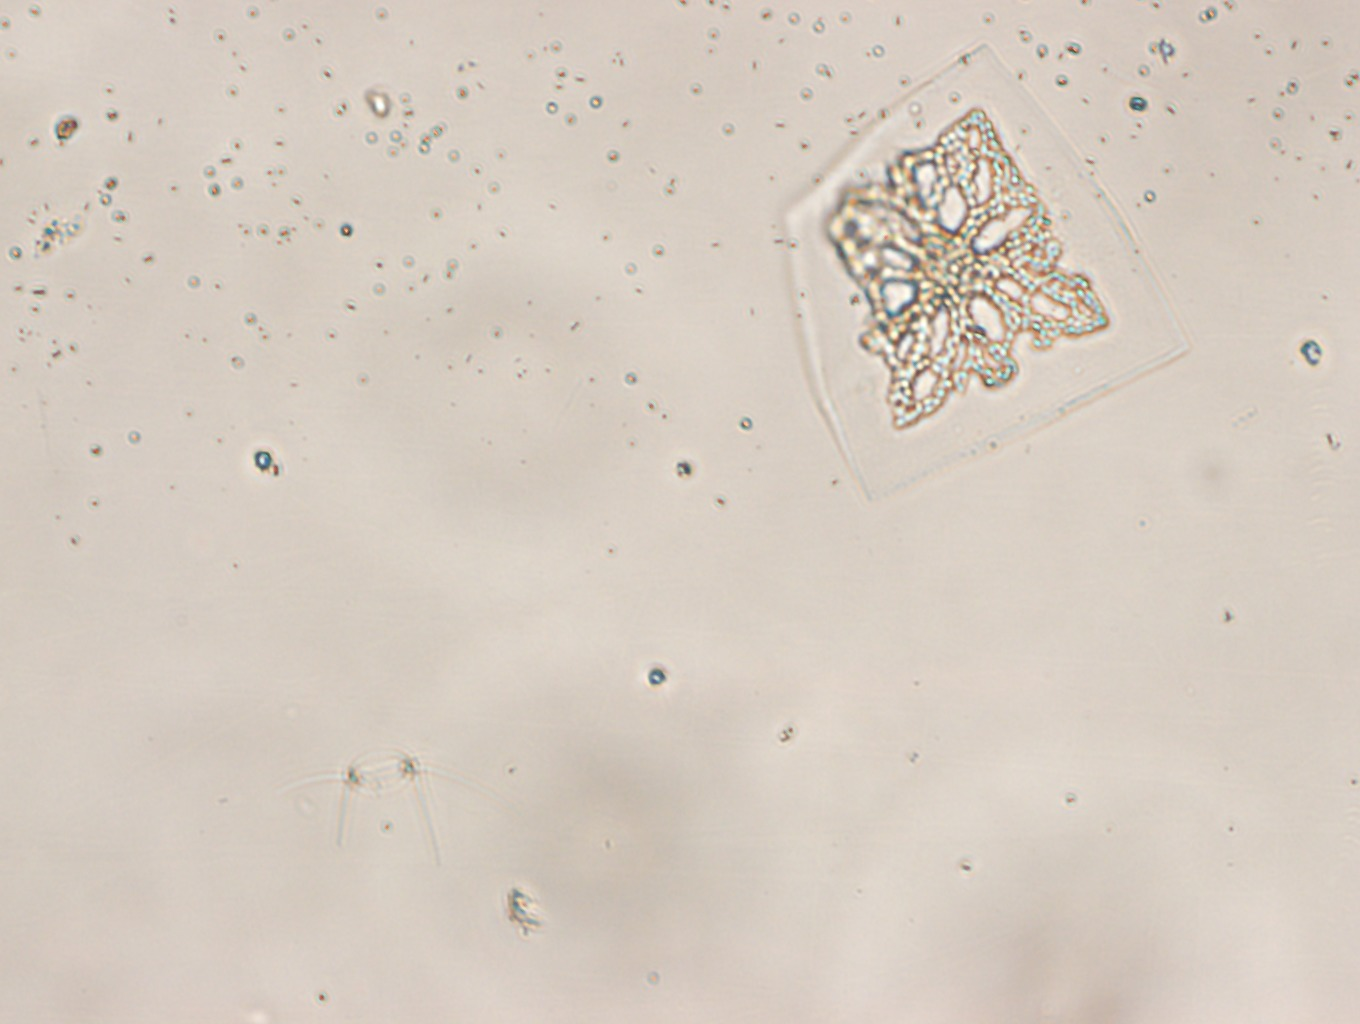helicotheca: (777, 41, 1196, 506)
